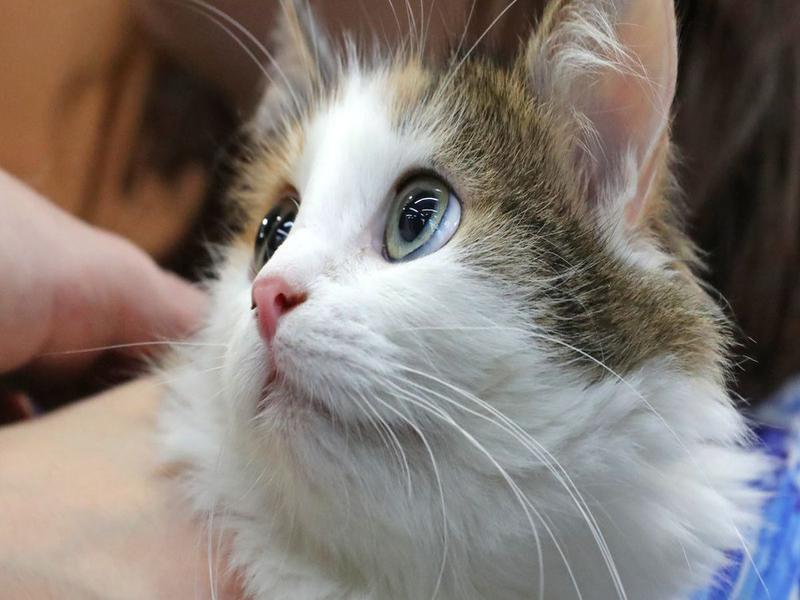cat: (149, 2, 774, 595)
